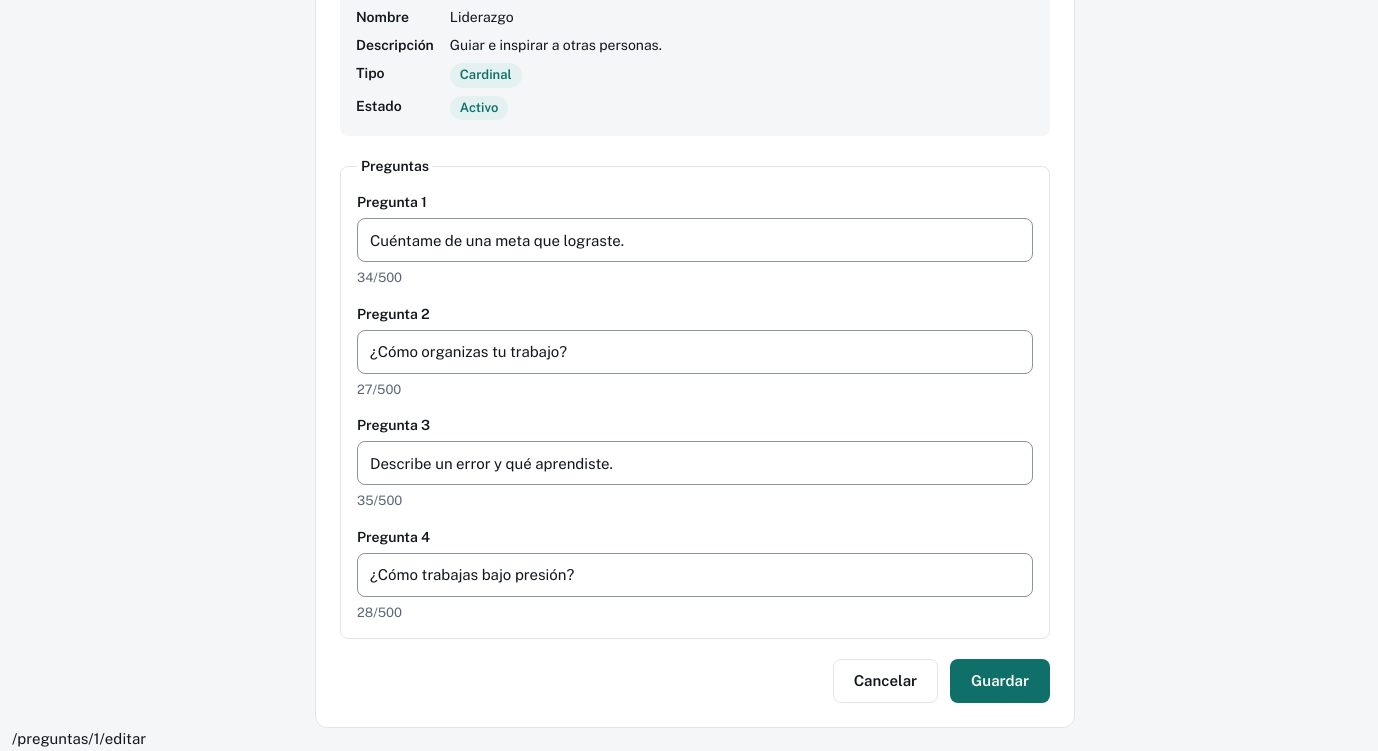
Test case: PreguntasFormPage (editar) › con 409 muestra la alerta de conflicto y Recargar lee la versión actual
(page scrolled)
Click the button "Guardar" at (1000, 681), box [950,659,1050,703]
(page scrolled)
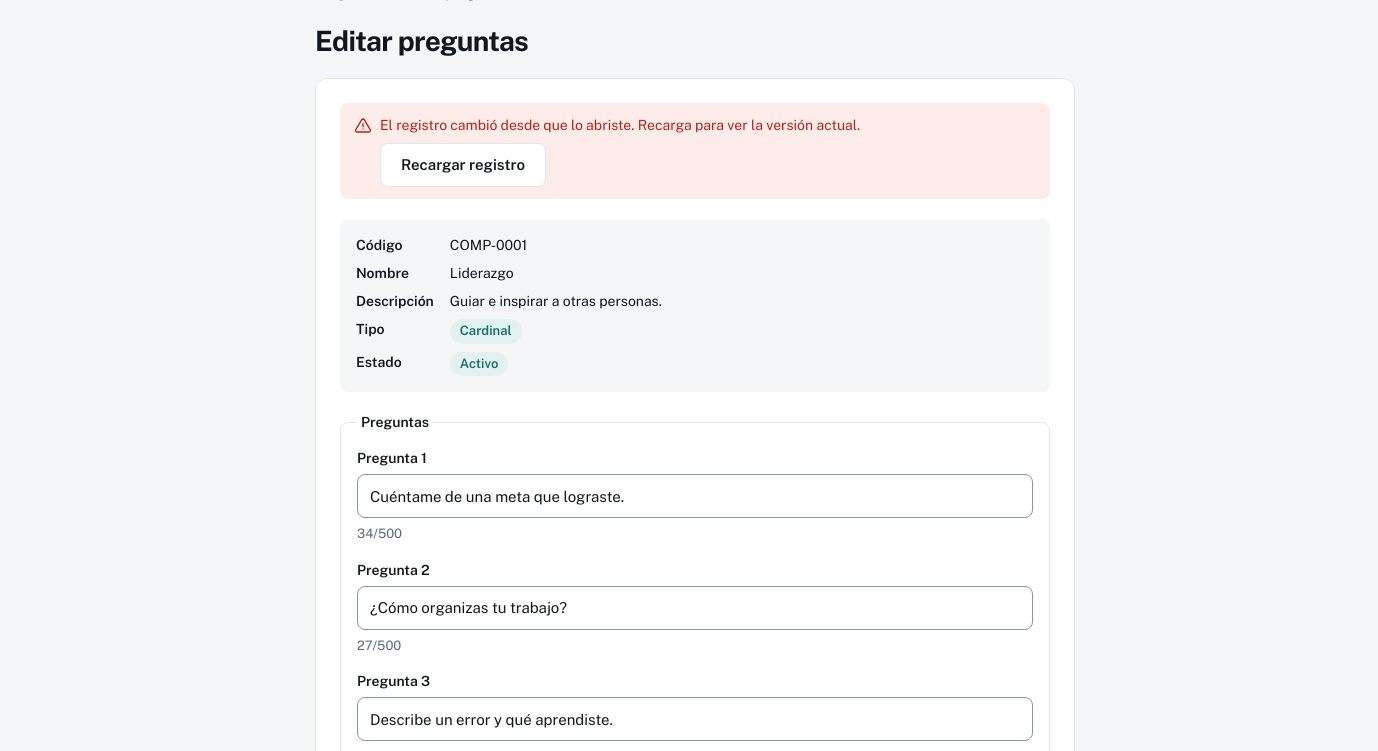
Check: the text "El registro cambió desde que lo abriste. Recarga para ver la versión actual." is shown, box [380,115,860,135]
Click the button "Recargar registro" at (463, 165), box [380,143,546,187]
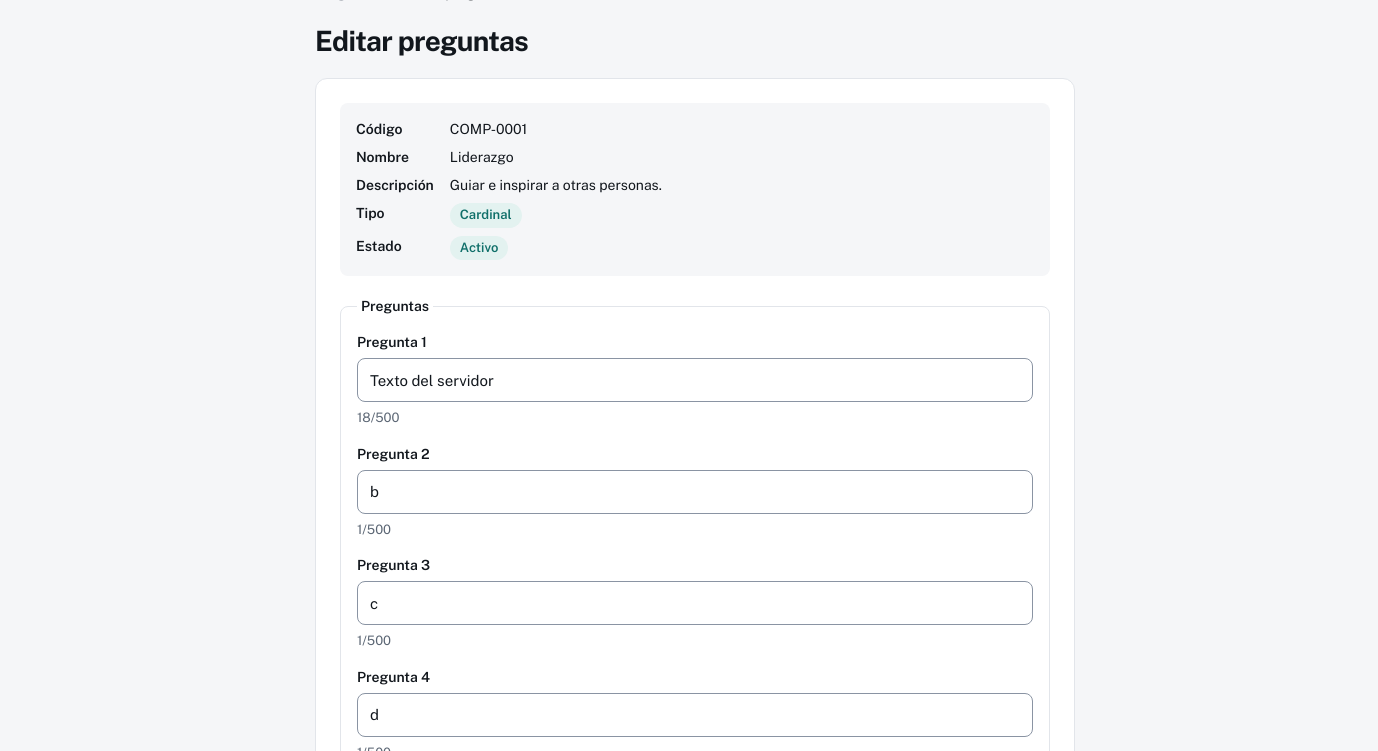
Check: the field showing "Texto del servidor" is shown, box [357,358,1033,402]
Check: the text "cambió desde que lo abriste" is gone
